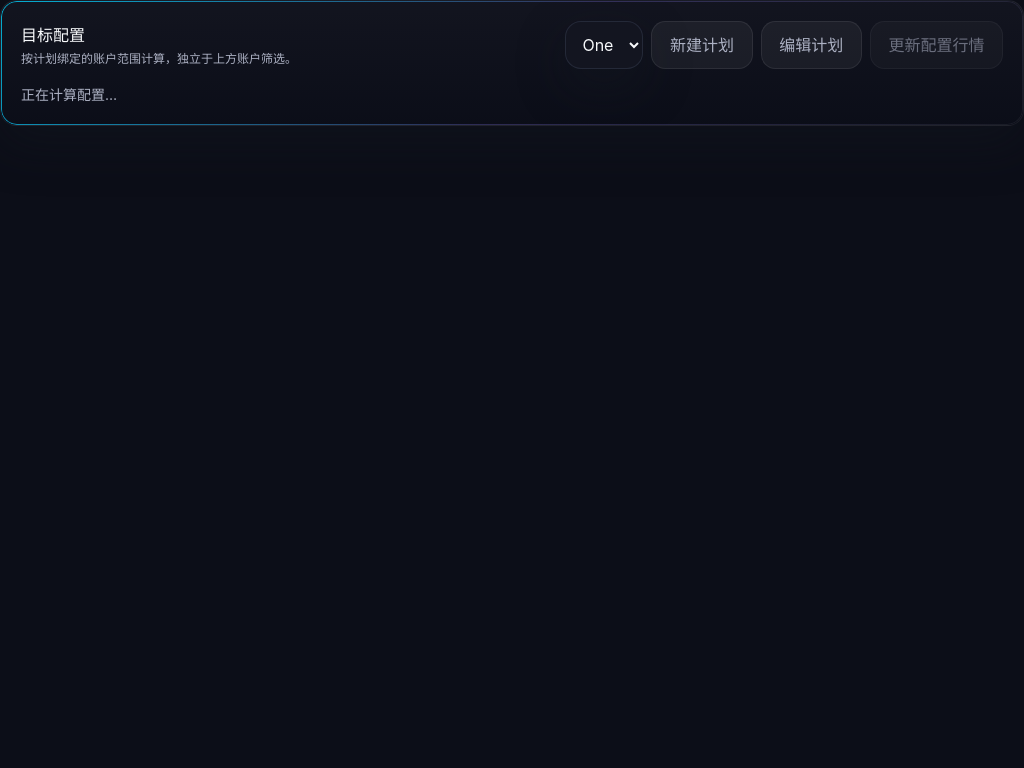
Test: AllocationPanel › discards late results from a previously selected plan
Select "Two" in the dropdown named "配置计划" at (604, 45), box [565,21,643,69]
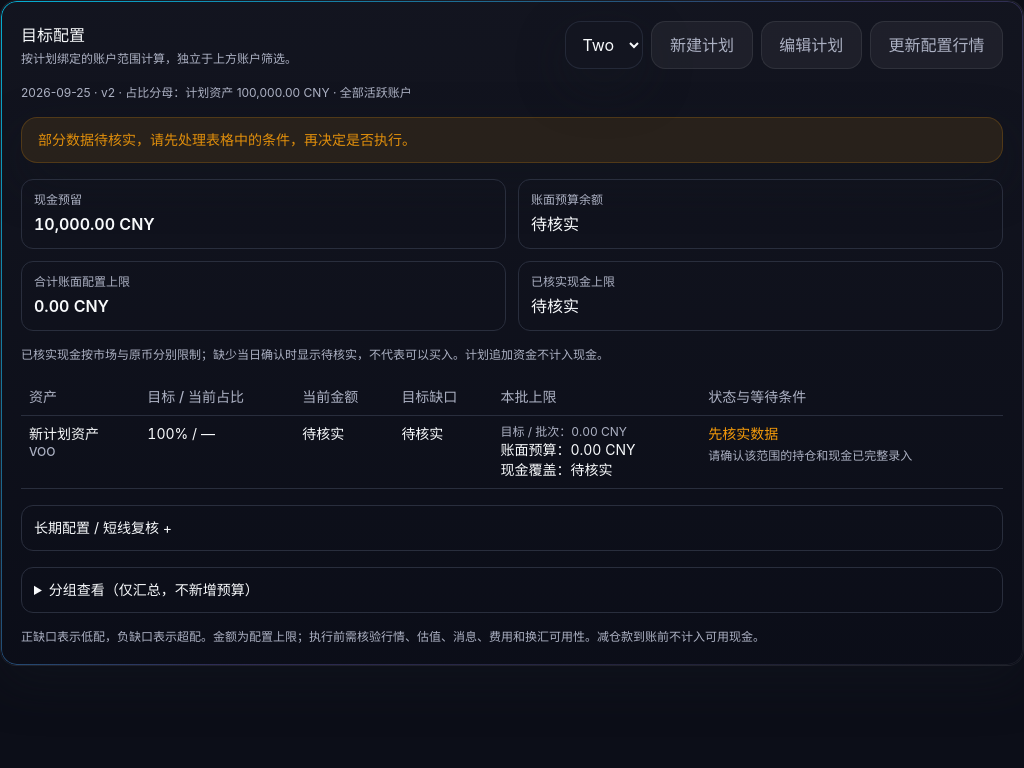
expect the text "新计划资产" is shown: met, box [29,425,99,442]
